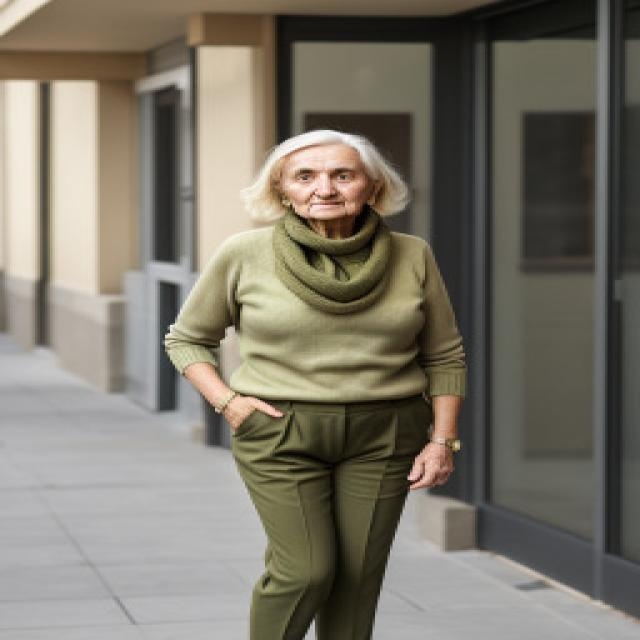Ai human 2: (144, 114, 504, 640)
